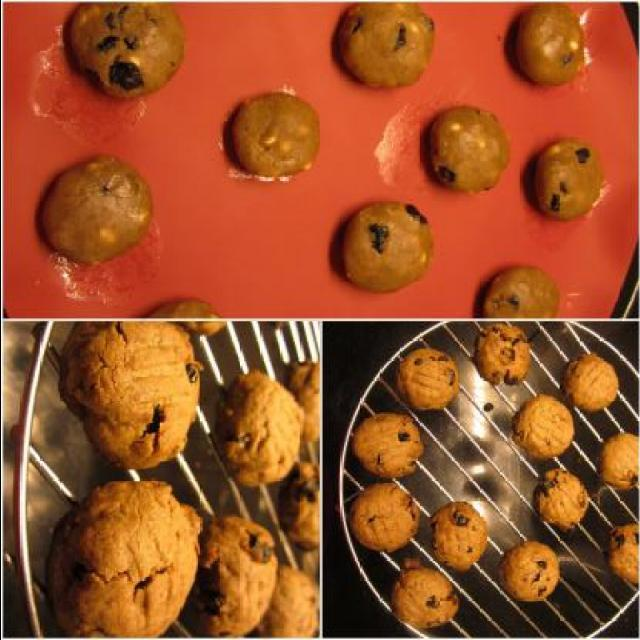Cookie: (43, 475, 203, 640), (56, 316, 200, 472), (37, 154, 149, 264), (70, 0, 188, 100), (189, 515, 280, 640), (214, 370, 306, 488), (332, 0, 437, 88), (338, 200, 434, 291), (227, 90, 319, 179), (512, 0, 586, 89), (529, 136, 605, 218), (348, 479, 422, 555), (347, 409, 424, 474), (391, 560, 460, 628), (256, 566, 318, 640), (512, 389, 574, 462), (427, 500, 487, 572), (396, 348, 460, 412), (480, 266, 560, 317), (498, 539, 560, 601), (562, 352, 620, 414), (477, 326, 532, 389), (535, 466, 587, 532), (282, 465, 320, 549), (286, 359, 322, 441), (596, 431, 640, 489), (603, 523, 640, 582), (152, 299, 216, 319)
